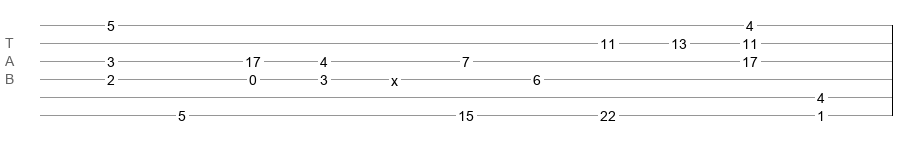0: (249, 72, 257, 82)
1: (817, 108, 825, 118)
11: (600, 36, 616, 46), (742, 36, 758, 46)
13: (671, 36, 687, 46)
15: (458, 108, 474, 118)
17: (245, 54, 261, 64), (742, 54, 758, 64)
2: (107, 72, 115, 82)
22: (600, 108, 616, 118)
3: (107, 54, 115, 64), (320, 72, 328, 82)
4: (320, 54, 328, 64), (746, 18, 754, 28), (817, 90, 825, 100)
5: (107, 18, 115, 28), (178, 108, 186, 118)
6: (533, 72, 541, 82)
7: (462, 54, 470, 64)
x: (391, 73, 398, 81)
